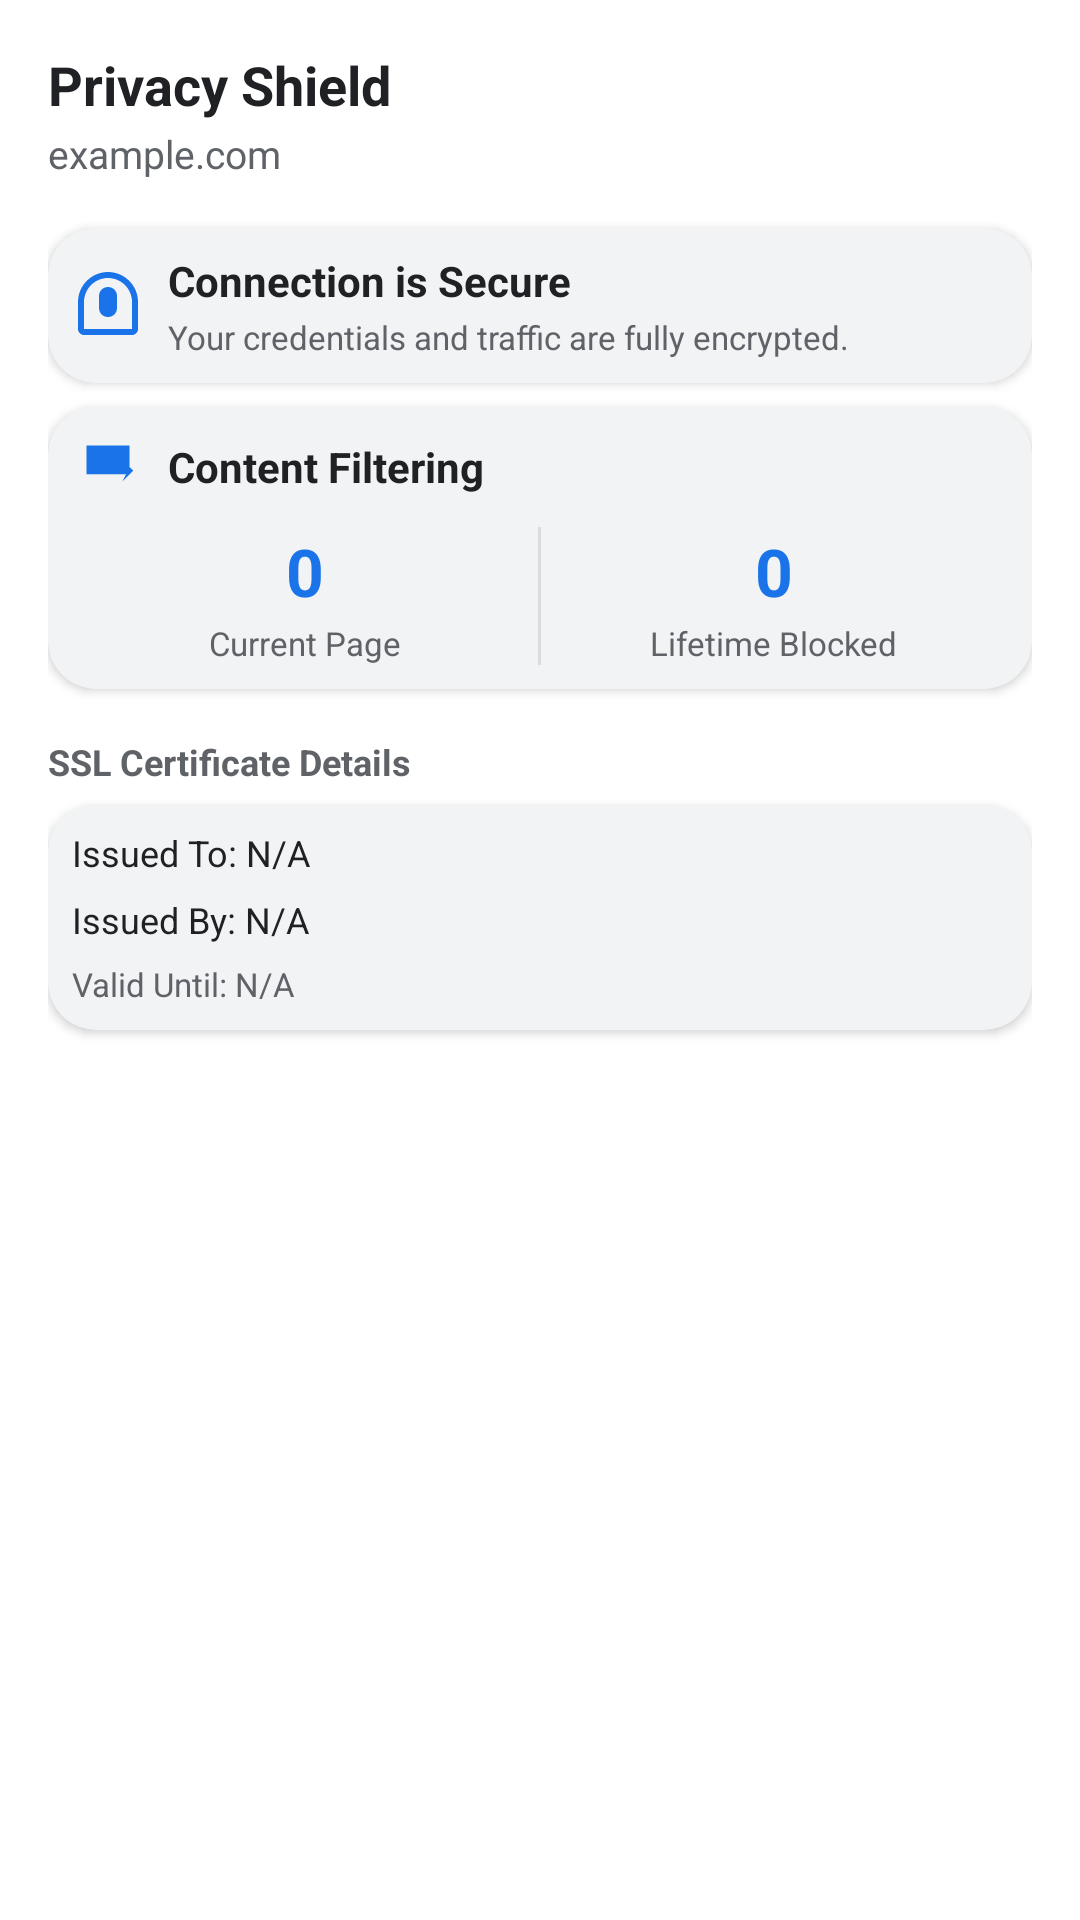

Icons on this 1080px×1920px Android screen, each with the point to tap as [x,y]:
Security Lock: [108,303]
